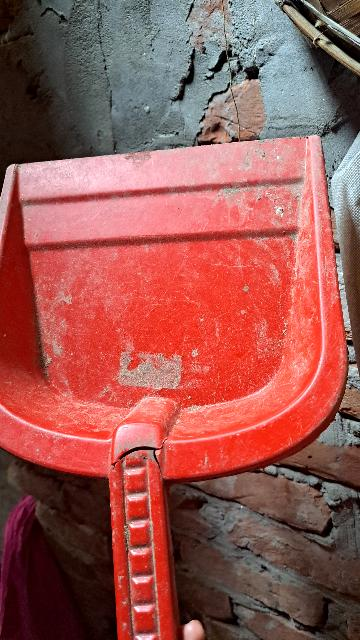hardplastic: (0, 113, 360, 640)
